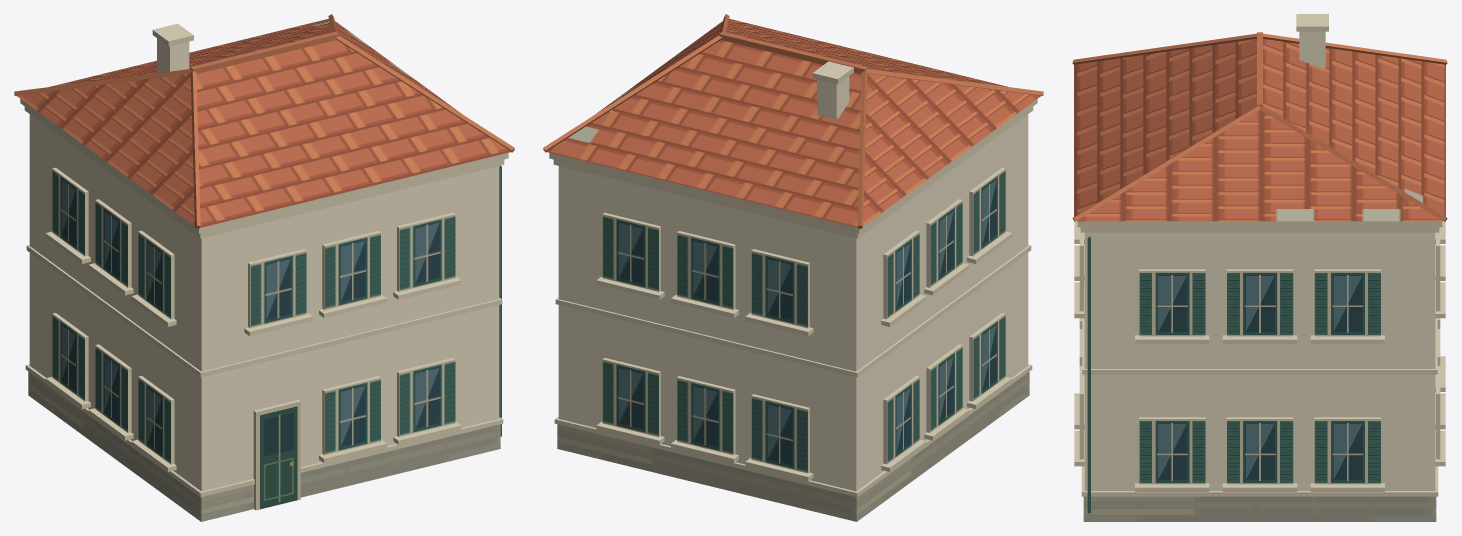
The model's file is SM_QD_E_HipVilla.fbx.
3 views of the same model, side by side, from view 1: azimuth 30°, elevation 25°; view 2: azimuth 150°, elevation 25°; view 3: azimuth 270°, elevation 25° (orthographic). The views are drawn at different scales.
Parts seen in each view (by area): view 1: SM_QD_E_HipVilla; view 2: SM_QD_E_HipVilla; view 3: SM_QD_E_HipVilla.
Part boxes in pixels (bbox=[...]): SM_QD_E_HipVilla: bbox=[14, 14, 514, 521]; SM_QD_E_HipVilla: bbox=[543, 14, 1043, 521]; SM_QD_E_HipVilla: bbox=[1072, 14, 1447, 521].
Size of what is drawn, in the model's own units: 7.84 by 7.81 by 9.06.
Materials: 1 (1 with a texture image).
